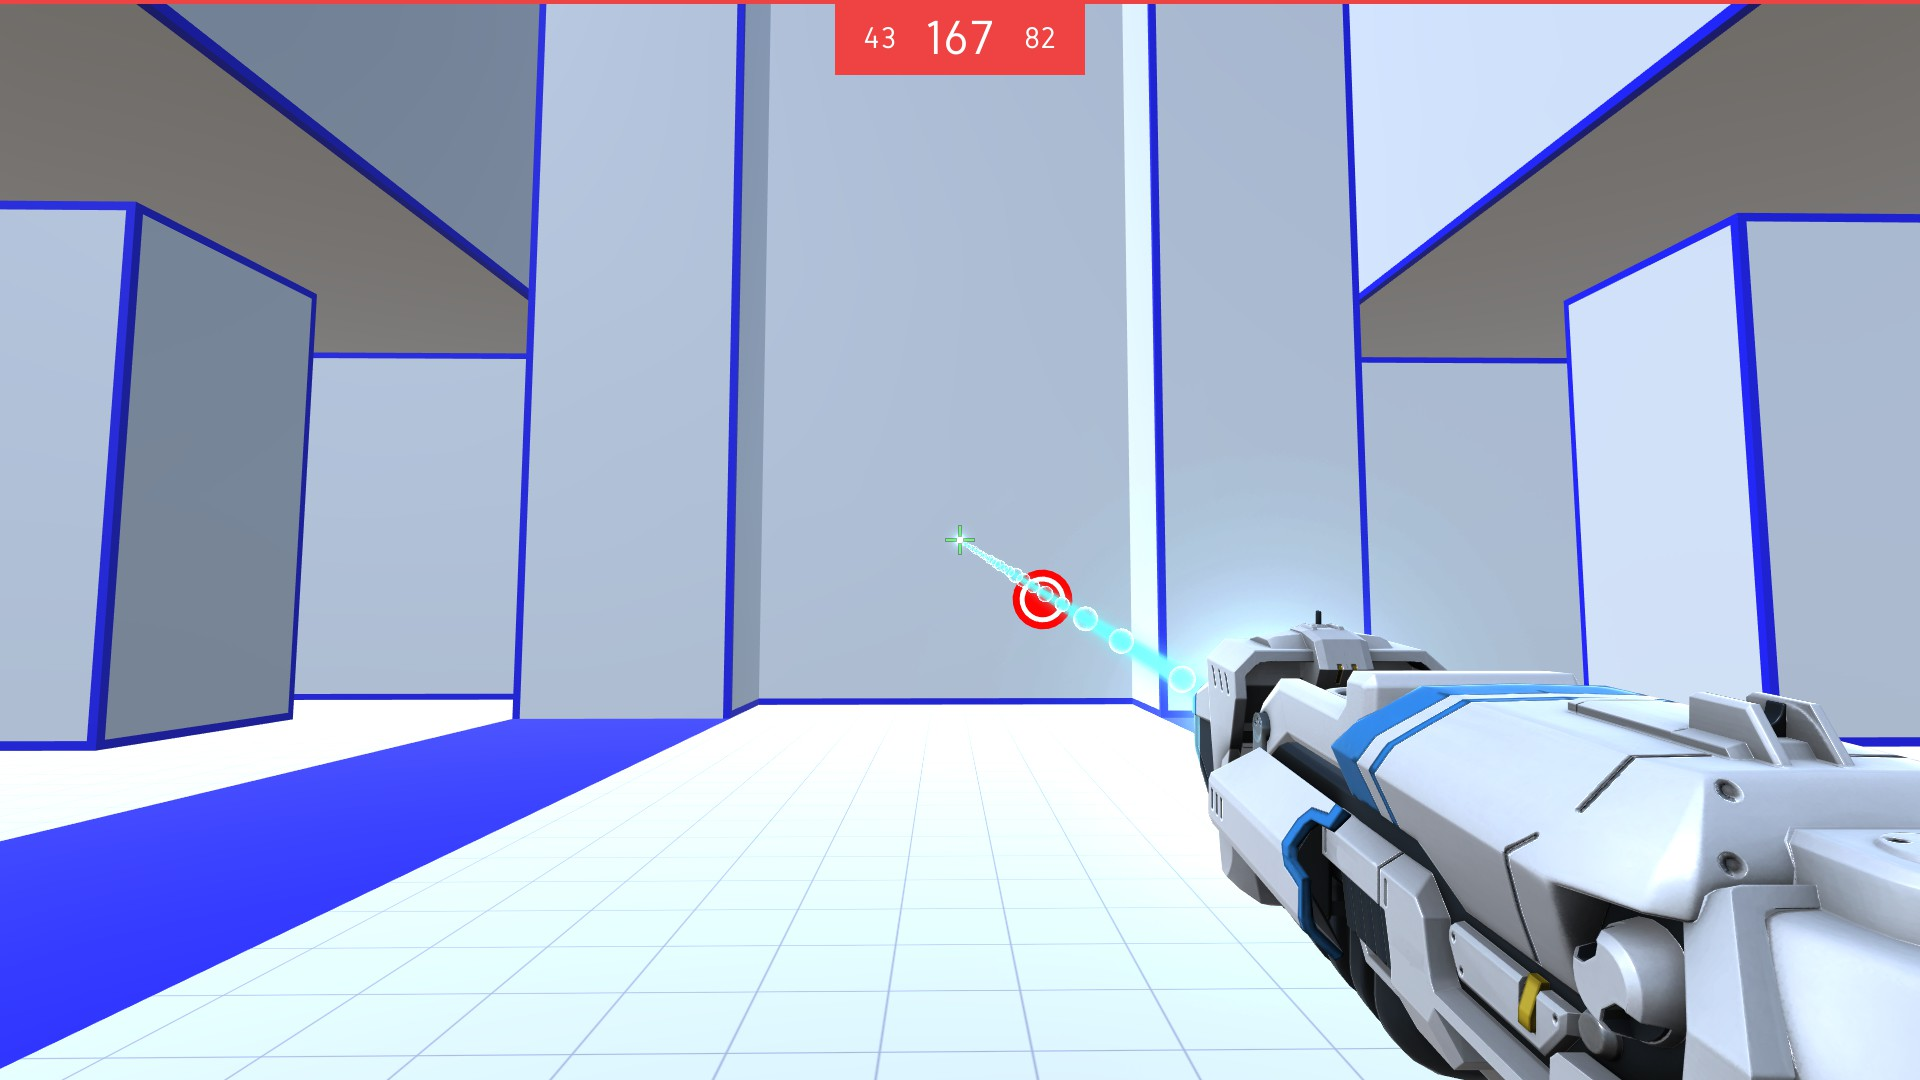target: (1010, 566, 1076, 628)
